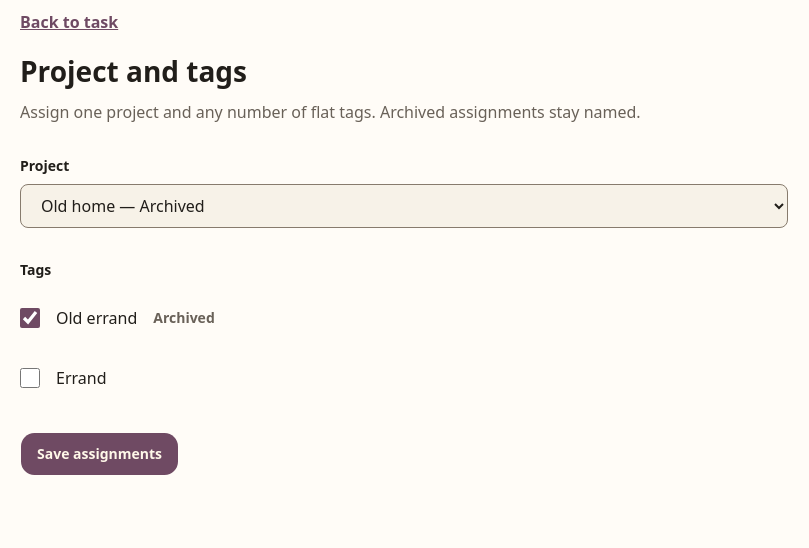
organization assignment fields › submits one project and many tags by stable ID while retaining archived history
The width and height of the screenshot is (809, 548).
Check: the text "Old errand" is shown, box [56,306,137,330]
Check: the text "Archived" is shown, box [153,308,215,328]
Select "Home" in the dropdown labelled "Project" at (404, 206), box [20,184,788,228]
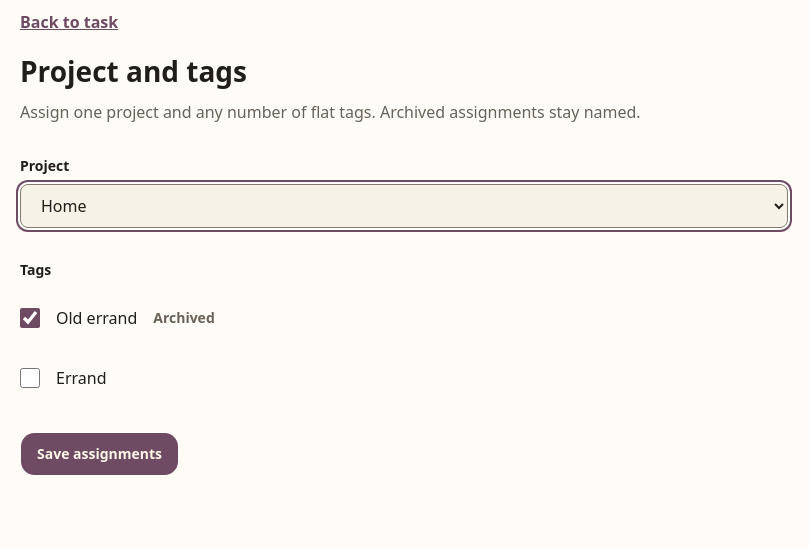
Click the checkbox labelled "Errand" at (30, 378), box [20,368,40,388]
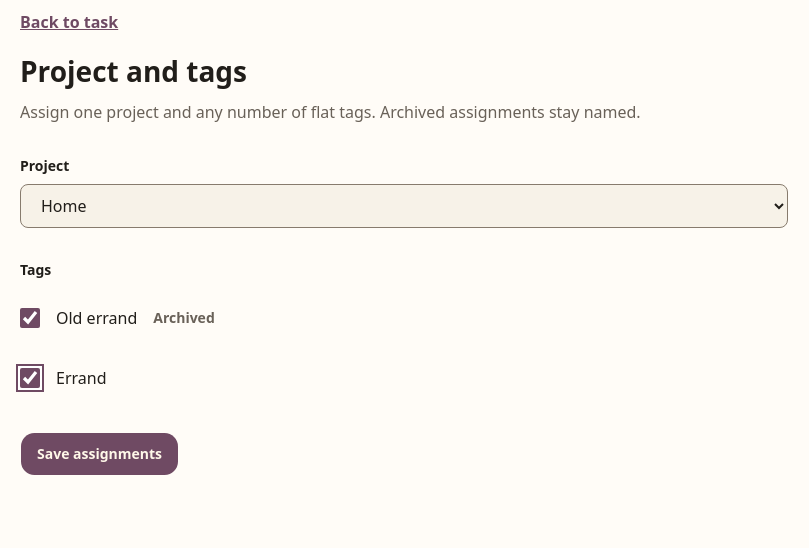
Click the button "Save assignments" at (100, 454), box [20,432,179,476]
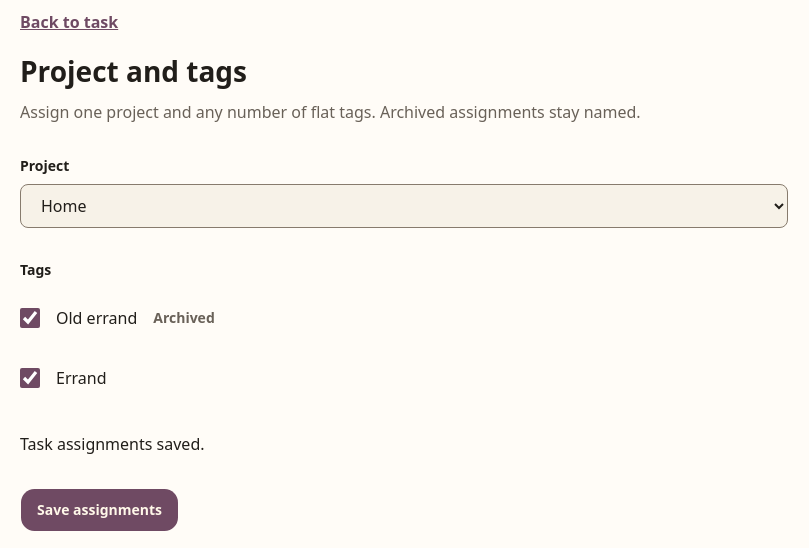
Check: the message reads "Task assignments saved.", box [20,433,204,455]
